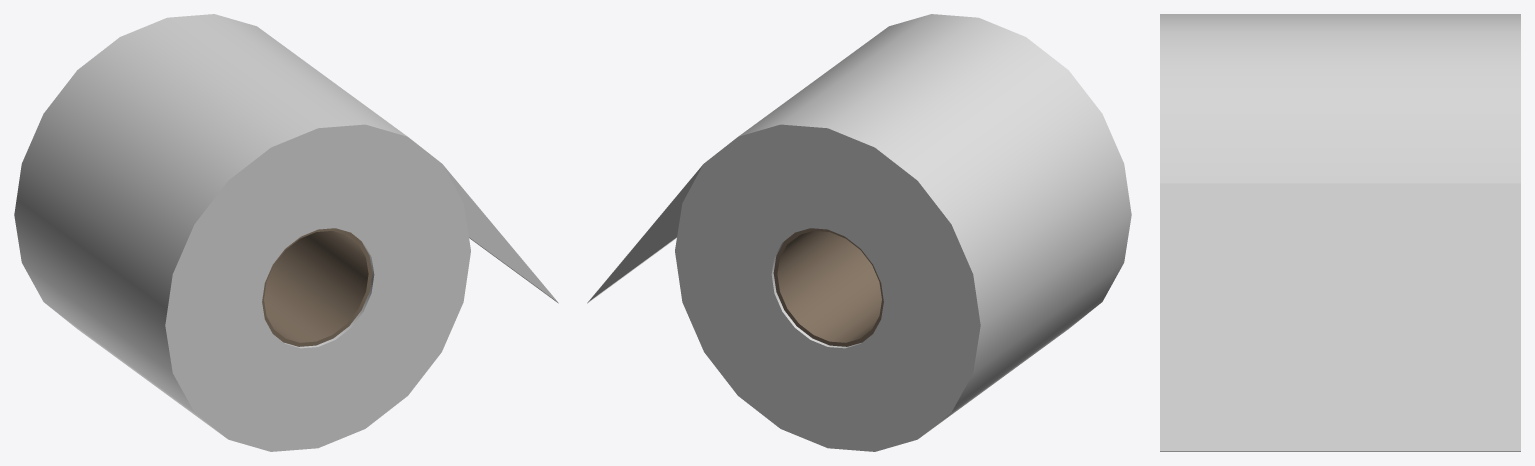
File: IO_ToiletPaper_03.fbx
3 views of the same model, side by side, from view 1: azimuth 30°, elevation 25°; view 2: azimuth 150°, elevation 25°; view 3: azimuth 270°, elevation 25° (orthographic). The views are drawn at different scales.
Visible parts, largest first — view 1: Toilet_Roll; view 2: Toilet_Roll; view 3: Toilet_Roll.
Boxes of the visible parts, bbox=[...] form: Toilet_Roll: bbox=[14, 14, 558, 451]; Toilet_Roll: bbox=[587, 14, 1131, 451]; Toilet_Roll: bbox=[1160, 14, 1520, 451].
Size of the model in its own units: 32.45 by 25.22 by 21.57.
